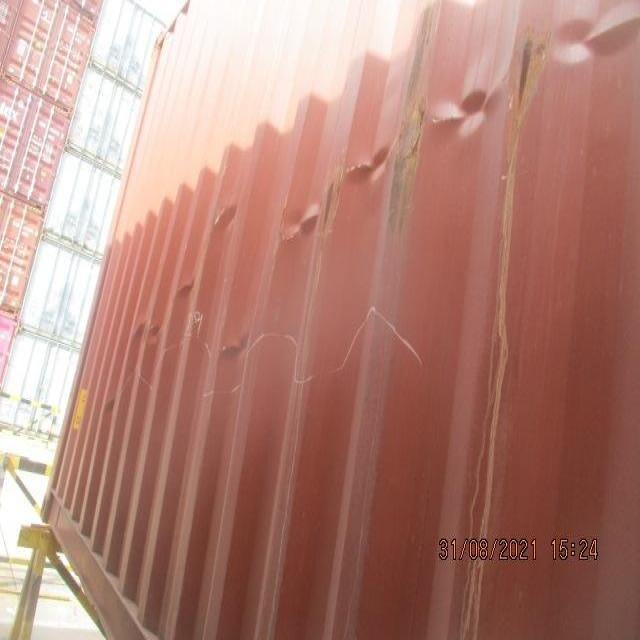dent: (437, 16, 639, 137), (121, 261, 278, 376), (272, 125, 399, 249)
